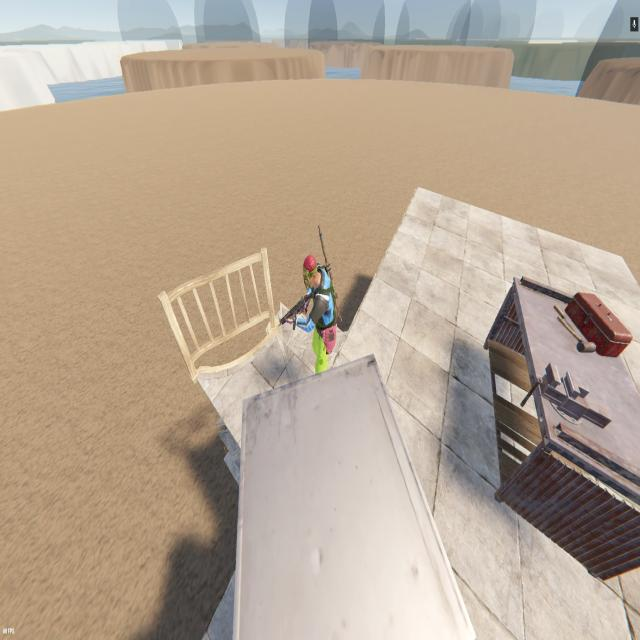Player: (294, 249, 339, 383)
